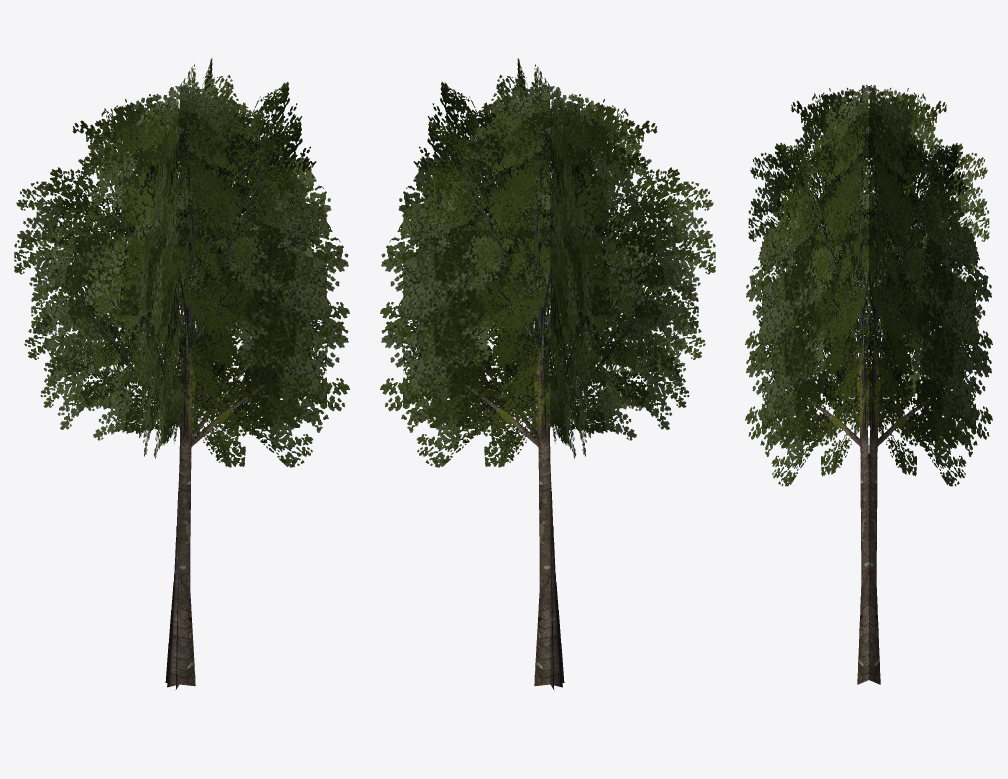
Rendered from tree18.glb.
3 renders of one model, left to right at view 1: azimuth 30°, elevation 25°; view 2: azimuth 150°, elevation 25°; view 3: azimuth 270°, elevation 25°, orthographic.
Visible parts, largest first — view 1: Plane.002; view 2: Plane.002; view 3: Plane.002.
Boxes of the visible parts, x1,y1,x2,y2 form: Plane.002: (14,58,349,689); Plane.002: (380,58,715,689); Plane.002: (745,85,992,684).
Bounding box in the file's own units: 12.91 × 24.87 × 9.28.
1 material, 1 textured.
